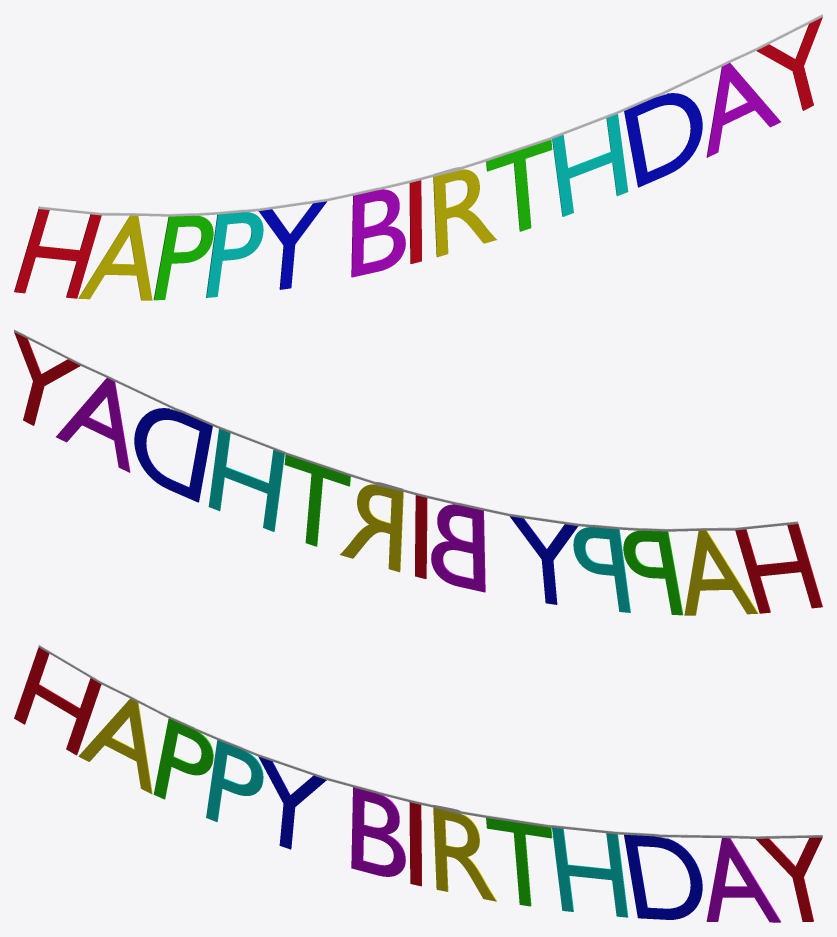
File: banner.glb
The picture shows the model from 3 angles, top to bottom: view 1: azimuth 30°, elevation 25°; view 2: azimuth 150°, elevation 25°; view 3: azimuth 330°, elevation 25°; orthographic projection.
Parts seen in each view (by area): view 1: Text; view 2: Text; view 3: Text.
Boxes of the visible parts, <box> form: Text: <box>14,14,822,300</box>; Text: <box>14,329,822,615</box>; Text: <box>14,644,822,922</box>.
Size of the model in its own units: 7.08 by 1.25 by 0.01.
